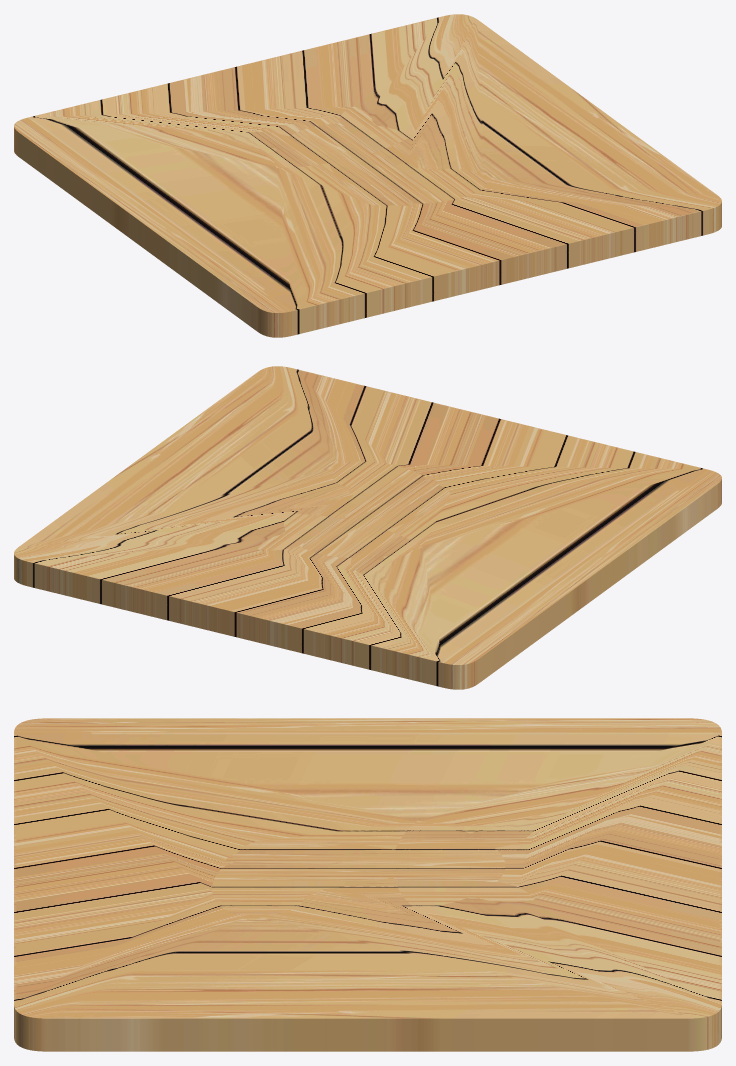
The model's file is FoxLevel.fbx.
3 renders of one model, top to bottom at view 1: azimuth 30°, elevation 25°; view 2: azimuth 150°, elevation 25°; view 3: azimuth 270°, elevation 25°, orthographic. The views are drawn at different scales.
Visible parts, largest first — view 1: FoxOuter, Fox_shape; view 2: FoxOuter, Fox_shape; view 3: FoxOuter, Fox_shape.
Boxes of the visible parts, x1,y1,x2,y2 form: FoxOuter: (14, 14, 721, 337); Fox_shape: (246, 106, 486, 206); FoxOuter: (14, 366, 721, 689); Fox_shape: (258, 461, 450, 575); FoxOuter: (14, 718, 721, 1051); Fox_shape: (212, 820, 533, 915).
Size of the model in its own units: 1245 by 63.78 by 1240.
1 material, 1 textured.
